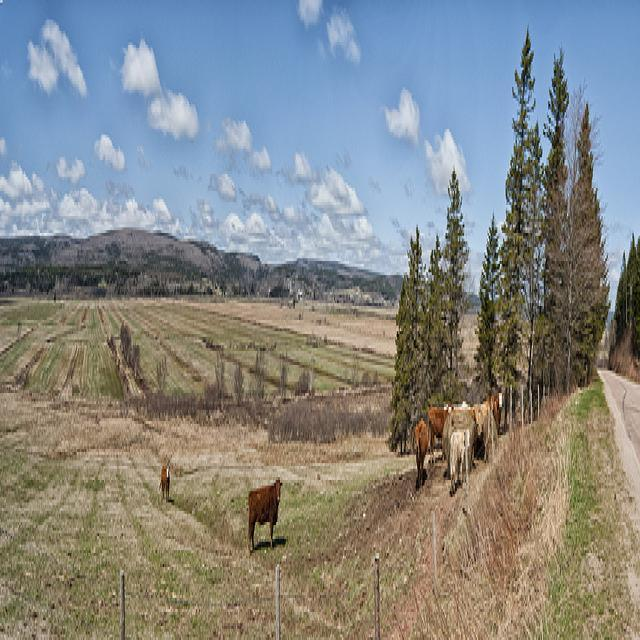cow: (440, 399, 482, 483), (245, 472, 282, 550), (427, 399, 452, 463), (448, 424, 468, 491), (485, 385, 503, 458), (410, 413, 427, 486), (473, 399, 490, 458), (158, 460, 169, 497), (474, 438, 483, 455)
